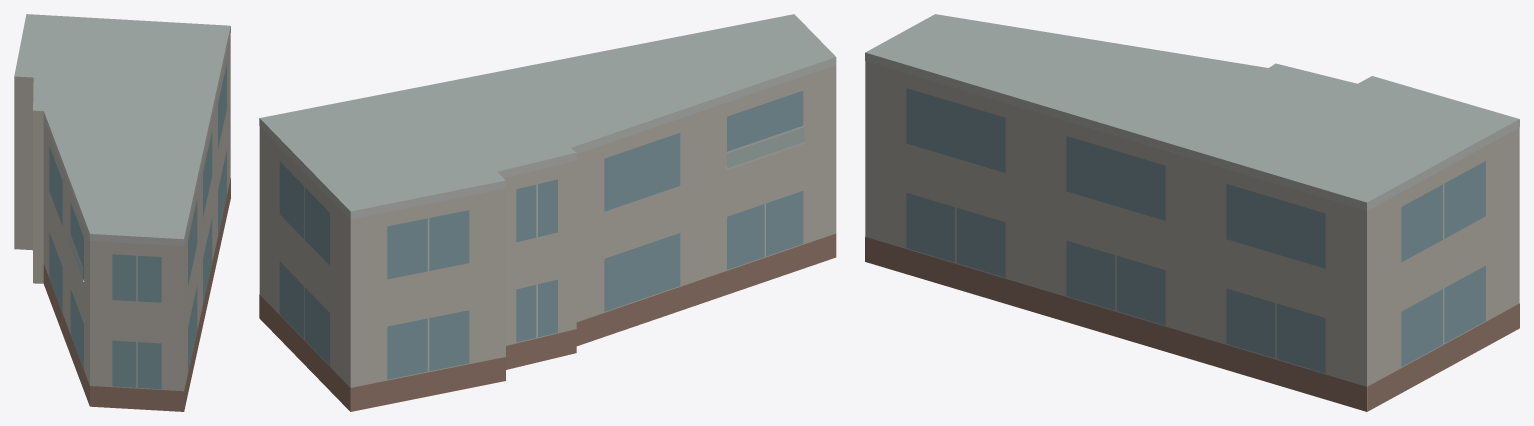
File: survey-upis-32696095.glb
The picture shows the model from 3 angles, left to right: view 1: azimuth 30°, elevation 25°; view 2: azimuth 150°, elevation 25°; view 3: azimuth 270°, elevation 25°; orthographic projection. The views are drawn at different scales.
Parts seen in each view (by area): view 1: survey-upis-32696095.tmp; view 2: survey-upis-32696095.tmp; view 3: survey-upis-32696095.tmp.
Boxes of the visible parts, x1=… form: survey-upis-32696095.tmp: x1=14, y1=14, x2=230, y2=411; survey-upis-32696095.tmp: x1=259, y1=14, x2=836, y2=411; survey-upis-32696095.tmp: x1=865, y1=14, x2=1519, y2=411.
Size of the model in its own units: 11.8 by 6.1 by 17.3.
